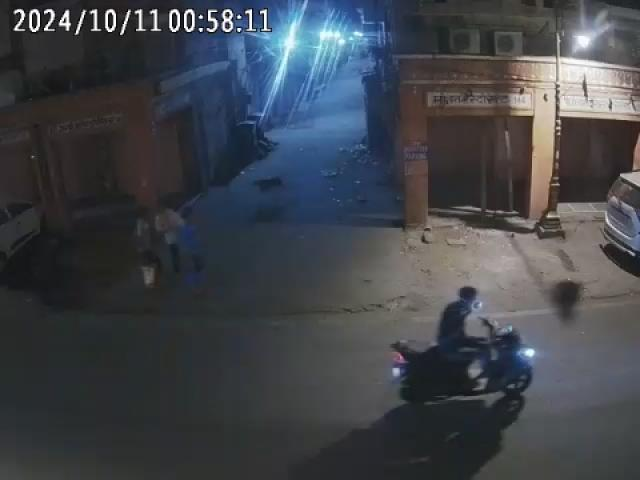person: (153, 198, 194, 283)
scooty-rider: (388, 285, 534, 411)
